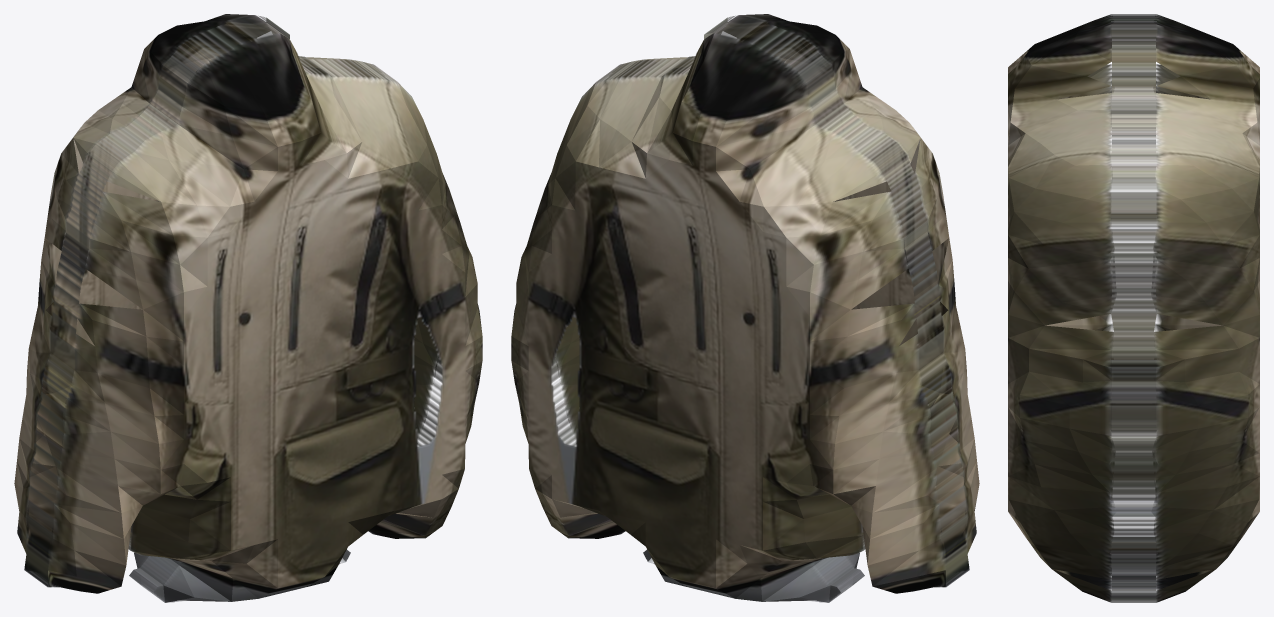
File: rukka-horizon-textile-jacket-012.glb
3 views of the same model, side by side, from view 1: azimuth 30°, elevation 25°; view 2: azimuth 150°, elevation 25°; view 3: azimuth 270°, elevation 25° (orthographic). The views are drawn at different scales.
Parts seen in each view (by area): view 1: world; view 2: world; view 3: world.
Part boxes in pixels (x1,y1,x2,y2): world: [14, 14, 482, 602]; world: [511, 14, 979, 602]; world: [1008, 14, 1259, 602].
Size of the model in its own units: 0.8012 by 1 by 0.44.
Materials: 1 (1 with a texture image).
